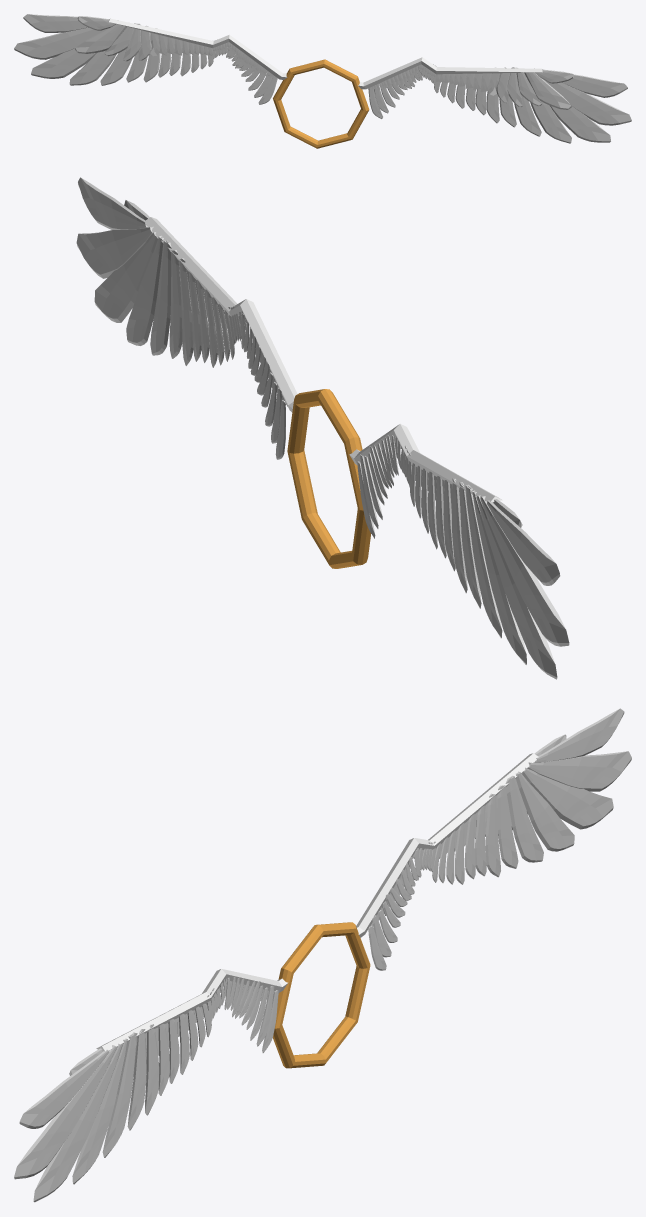
The model's file is finalwings.fbx.
The picture shows the model from 3 angles, top to bottom: view 1: azimuth 30°, elevation 25°; view 2: azimuth 150°, elevation 25°; view 3: azimuth 270°, elevation 25°; orthographic projection. The views are drawn at different scales.
Parts seen in each view (by area): view 1: Feathers; view 2: Feathers; view 3: Feathers.
Part boxes in pixels (box(x1,y1,x2,y2)): Feathers: box(14, 14, 631, 148); Feathers: box(76, 177, 569, 679); Feathers: box(14, 708, 631, 1202).
Size of the model in its own units: 1400 by 367 by 1042.
